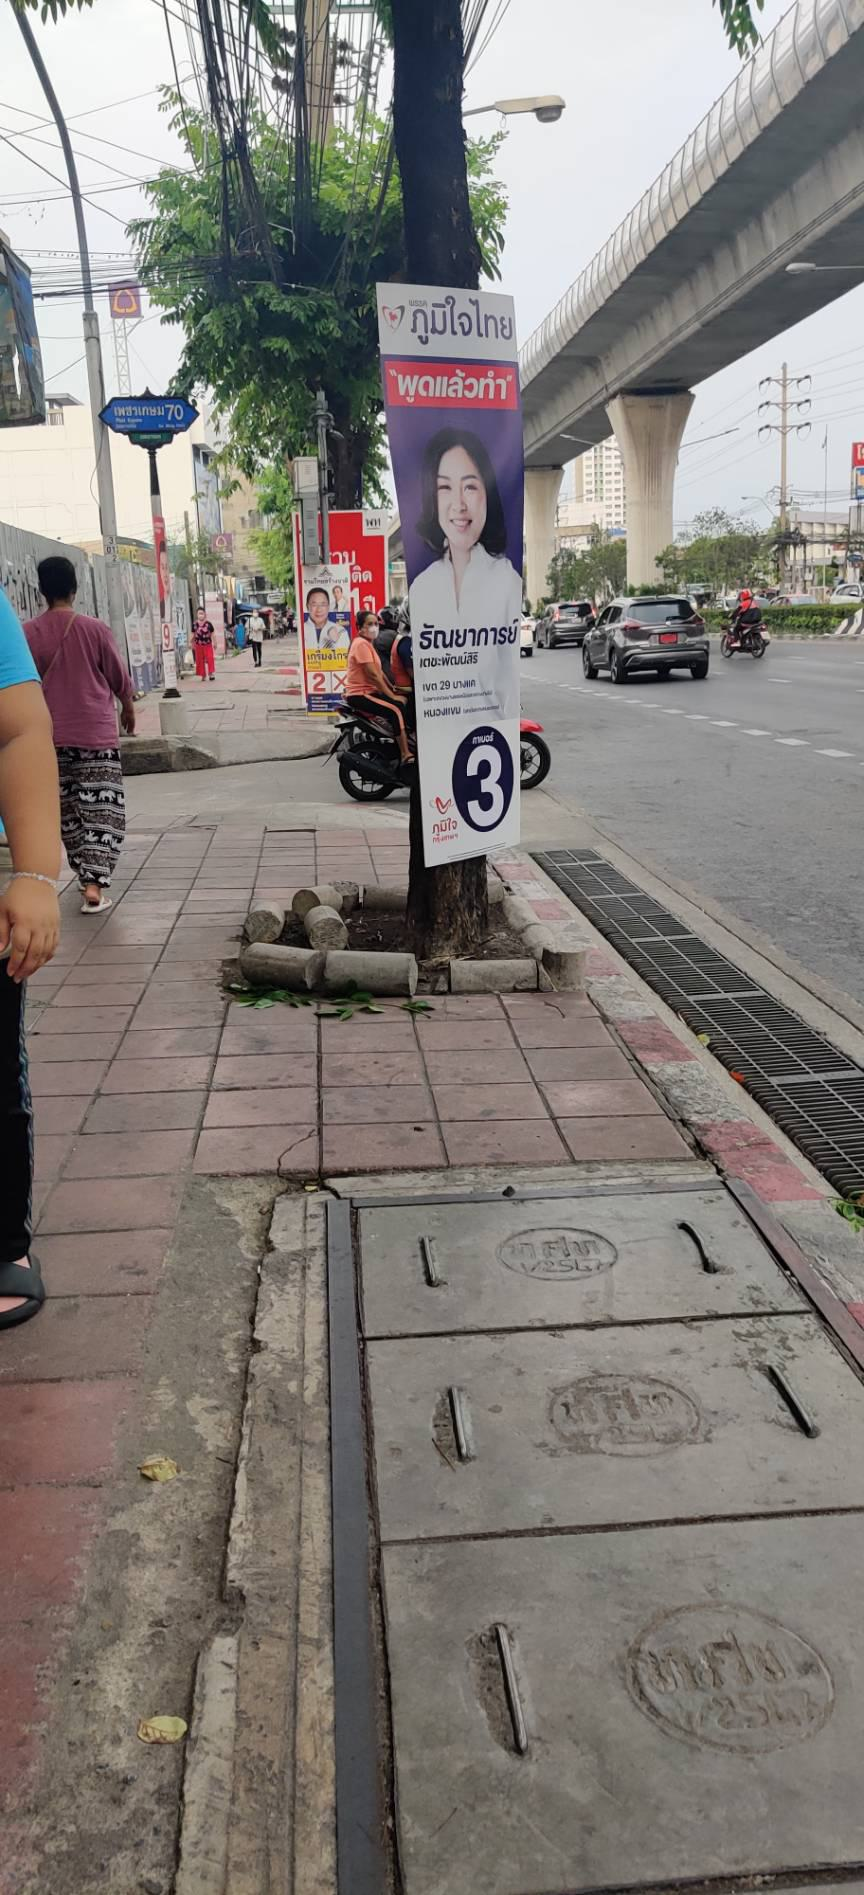Banner: (383, 279, 535, 883)
